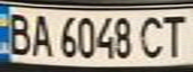0: (75, 13, 96, 60)
4: (93, 14, 118, 61)
6: (54, 12, 78, 59)
8: (112, 14, 139, 61)
A: (27, 11, 54, 57)
B: (3, 9, 36, 56)
C: (136, 12, 169, 60)
T: (157, 11, 190, 58)
